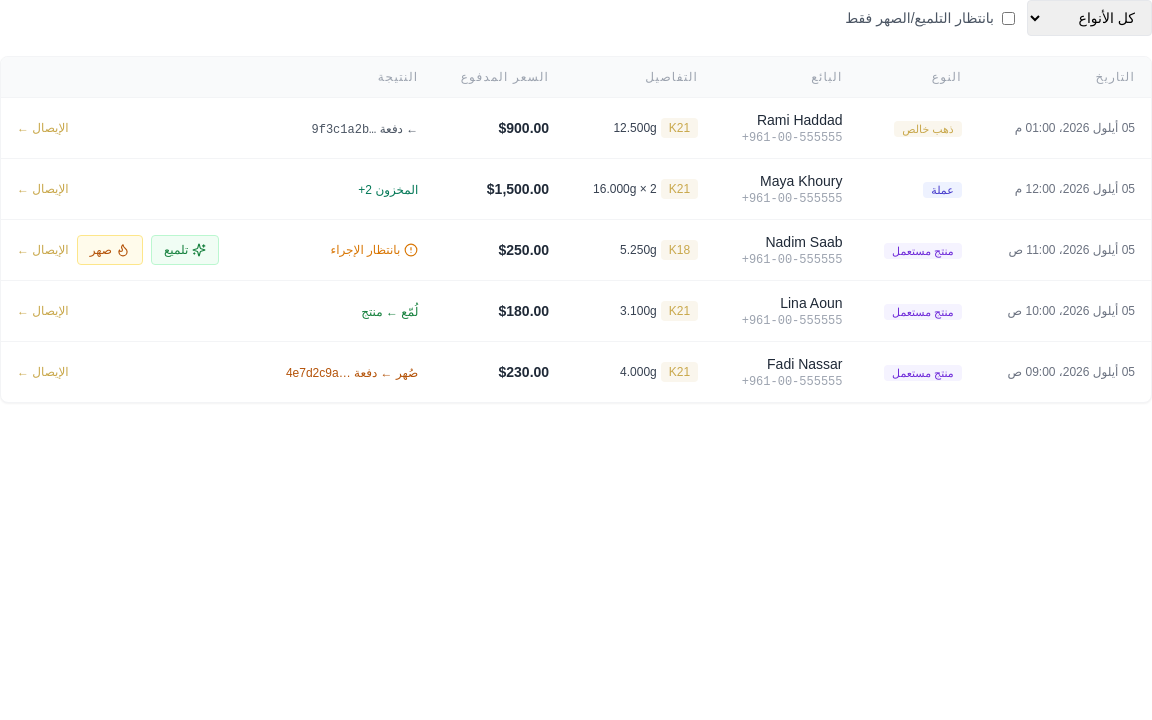
Test case: buybacks in Arabic (NEX-64) › leaves no English behind — melt dialog
Step 1. Click the button "صهر" → (110, 250), box [77, 235, 143, 265]
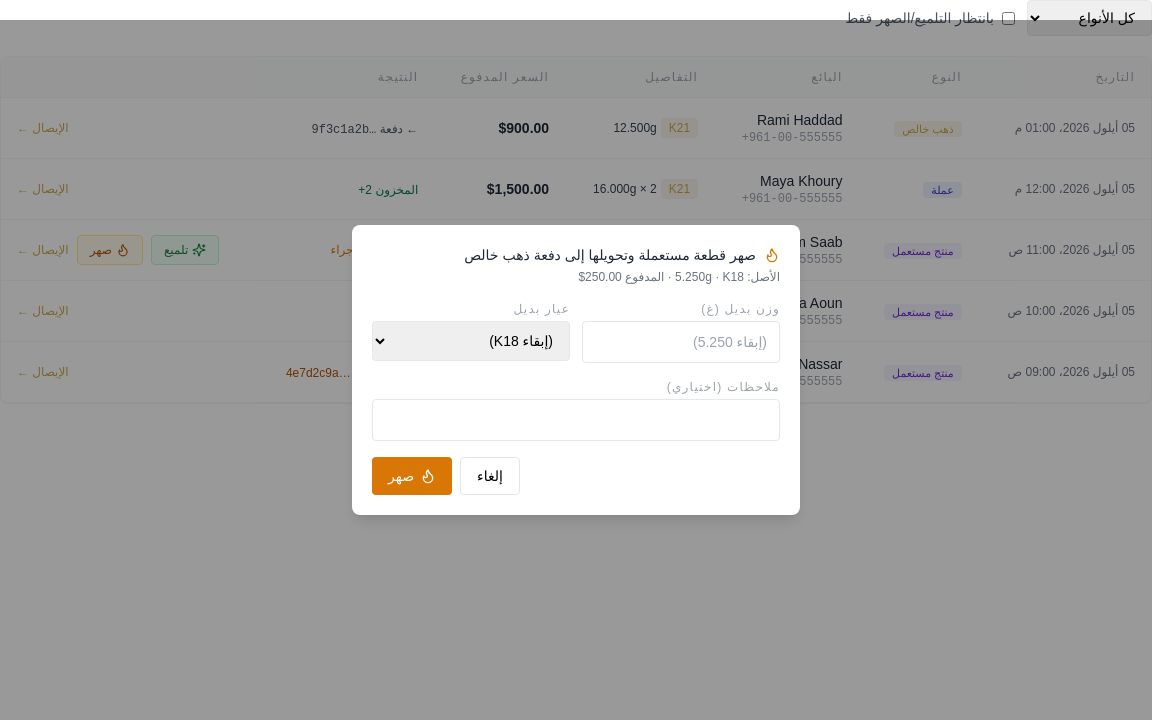
Now the text "صهر قطعة مستعملة وتحويلها إلى دفعة ذهب خالص" is shown, box [464, 247, 780, 263]
